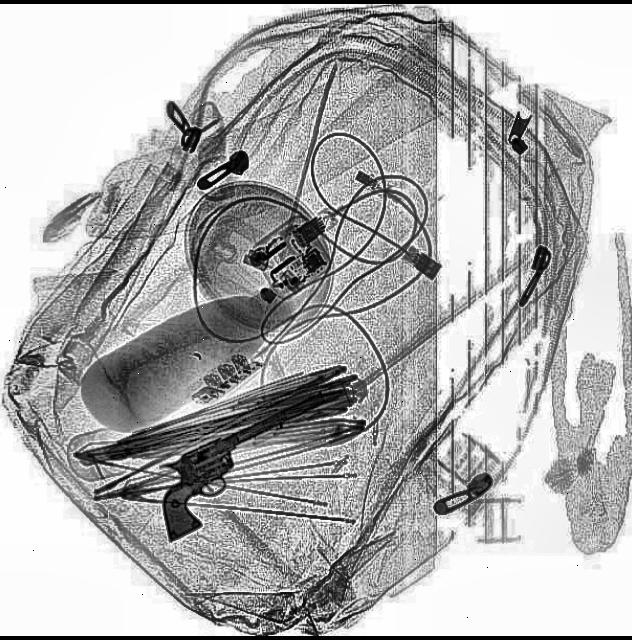Gun: (140, 390, 346, 544)
